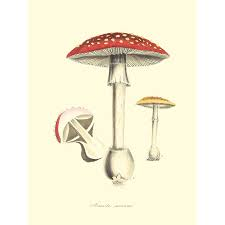Amanita muscaria: (68, 22, 167, 182)
